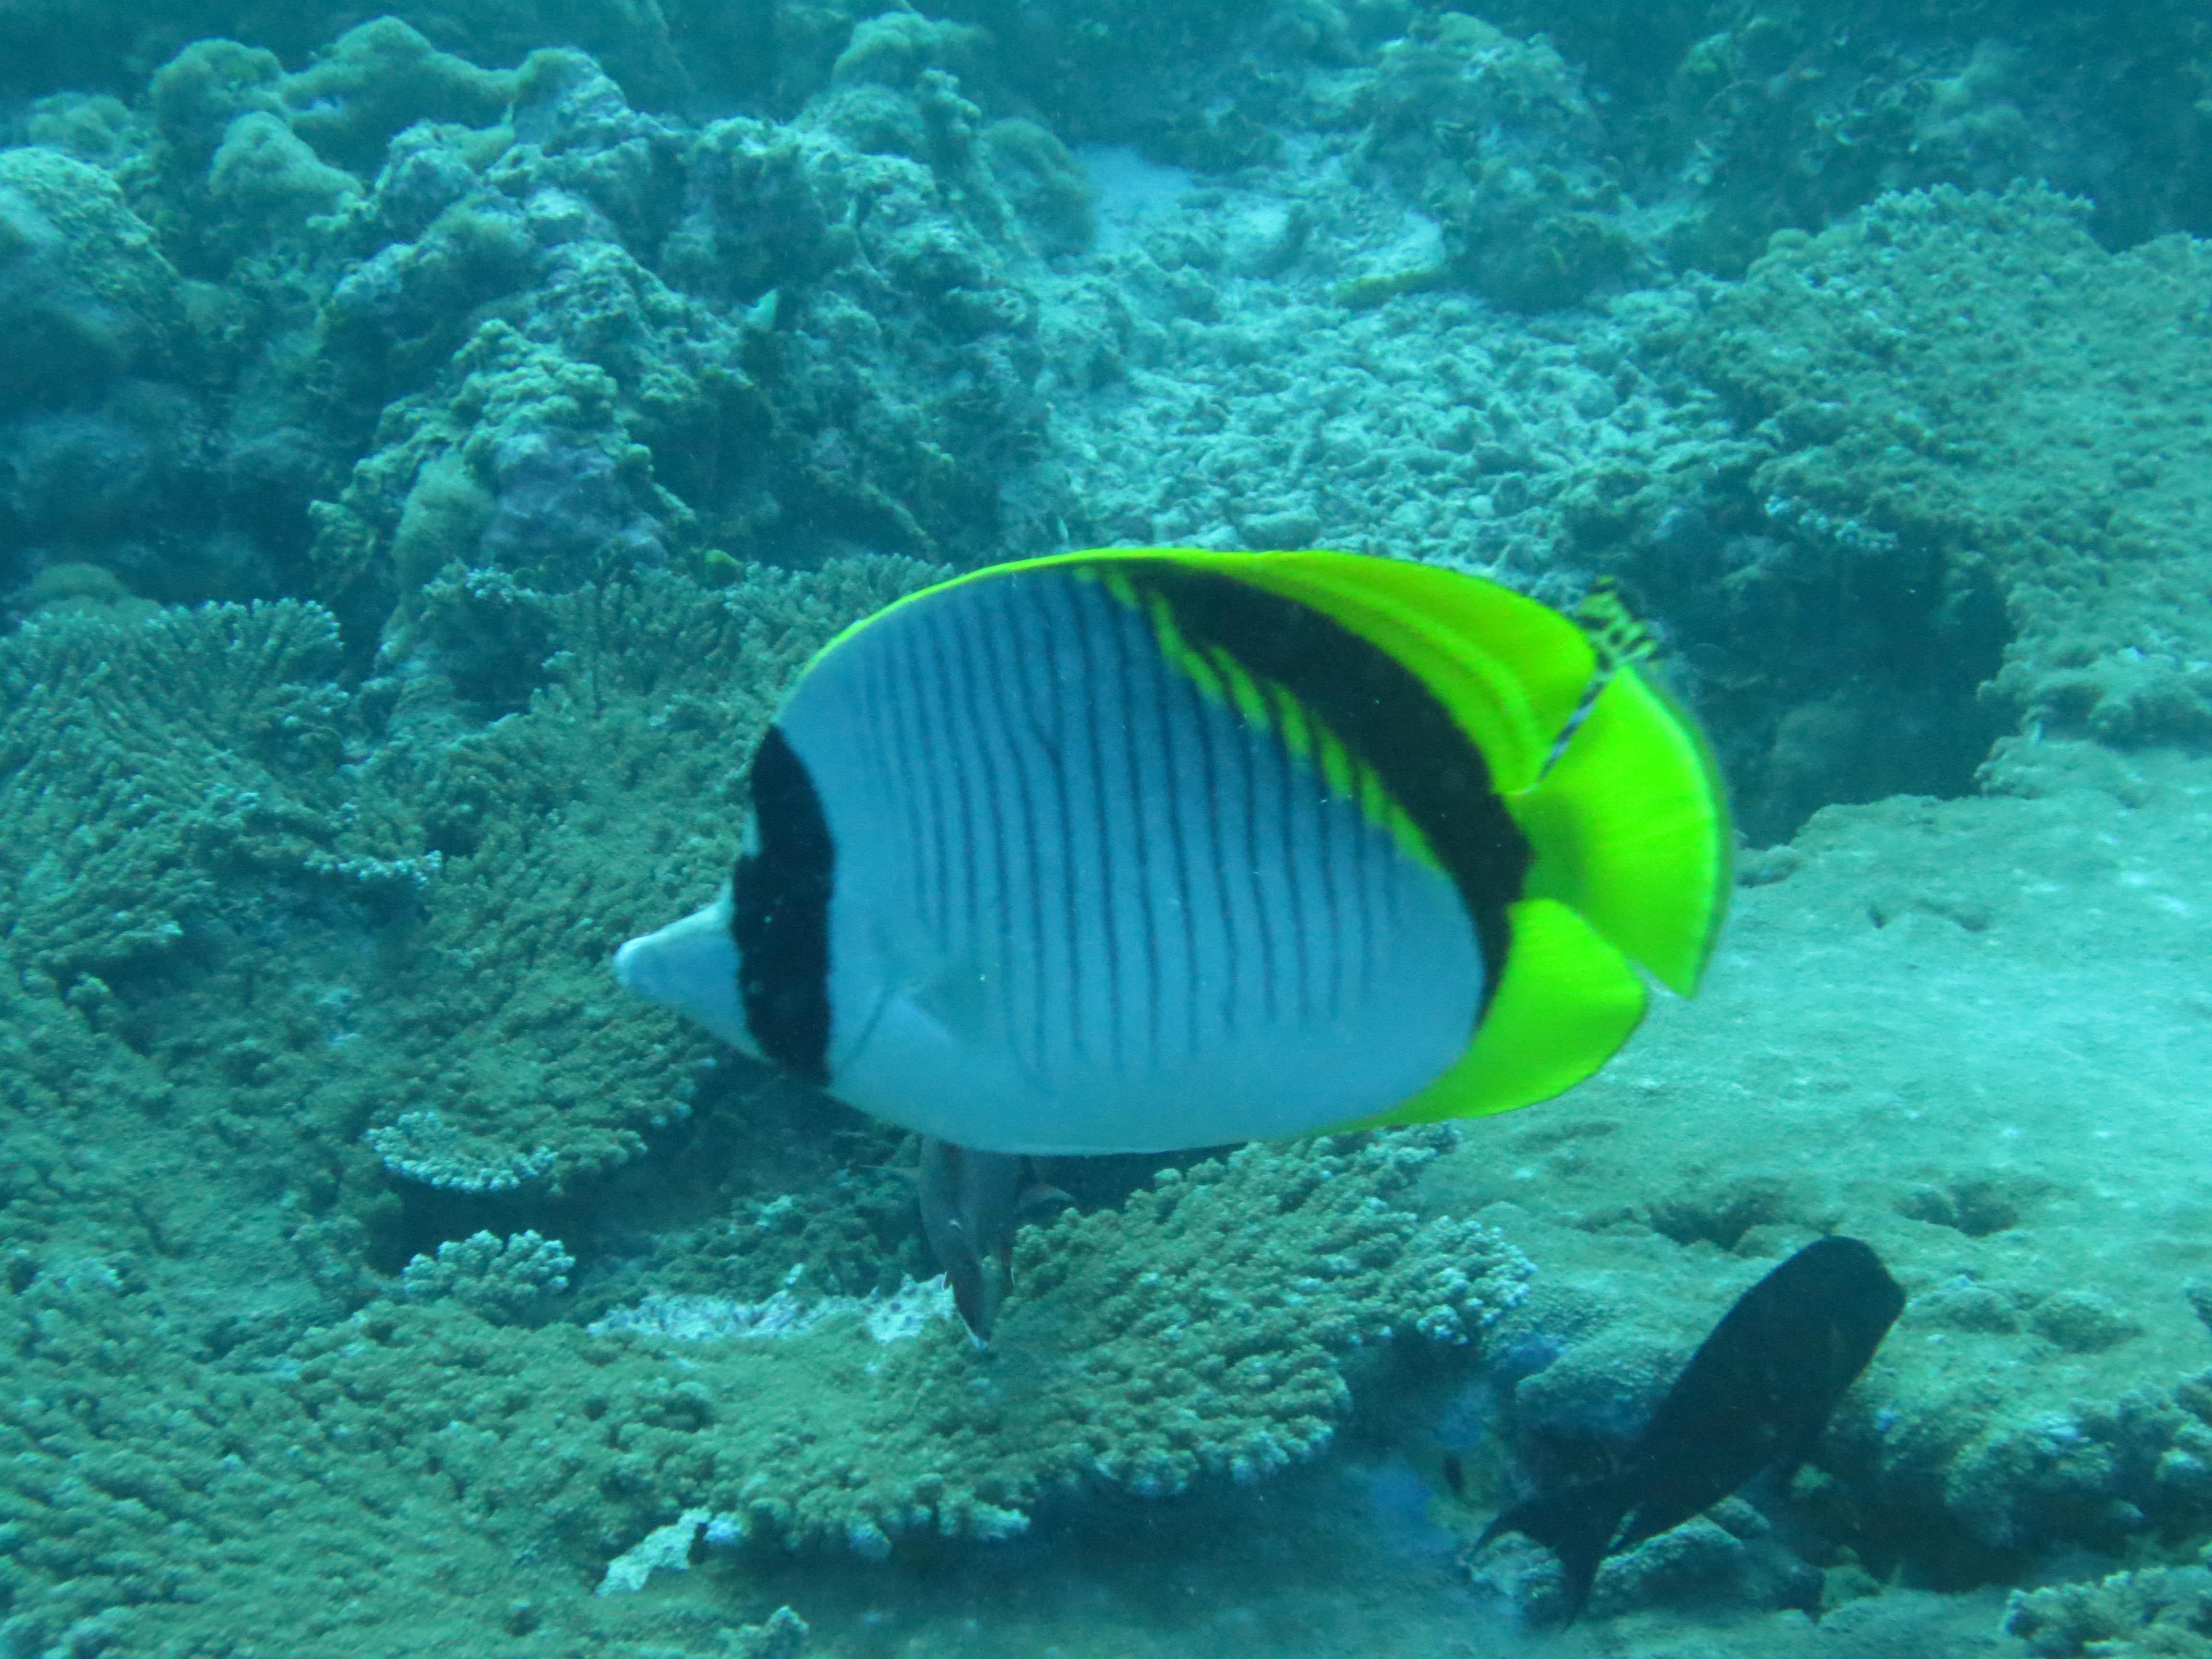Fish: (416, 477, 1935, 1394)
